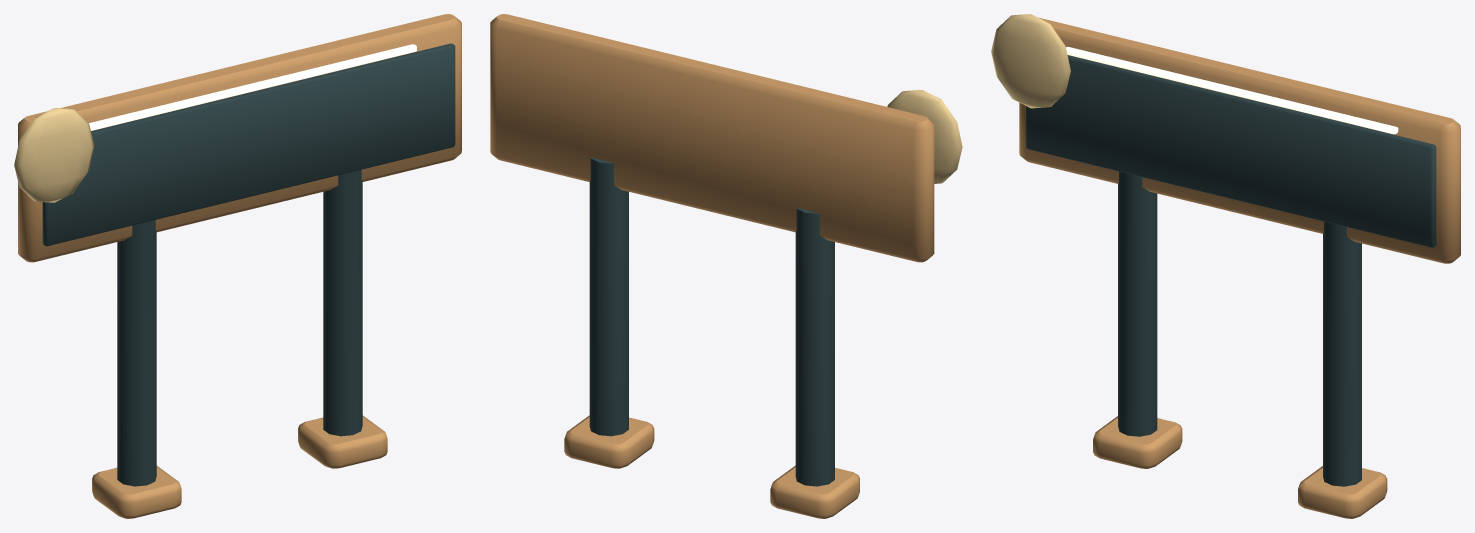
The model's file is billboard_2.glb.
3 views of the same model, side by side, from view 1: azimuth 30°, elevation 25°; view 2: azimuth 150°, elevation 25°; view 3: azimuth 330°, elevation 25° (orthographic).
Parts seen in each view (by area): view 1: Billboard; view 2: Billboard; view 3: Billboard.
Boxes of the visible parts, bbox=[...] form: Billboard: bbox=[14, 14, 461, 518]; Billboard: bbox=[490, 14, 962, 518]; Billboard: bbox=[991, 14, 1460, 518].
Size of the model in its own units: 4.51 by 4.02 by 0.6364.
